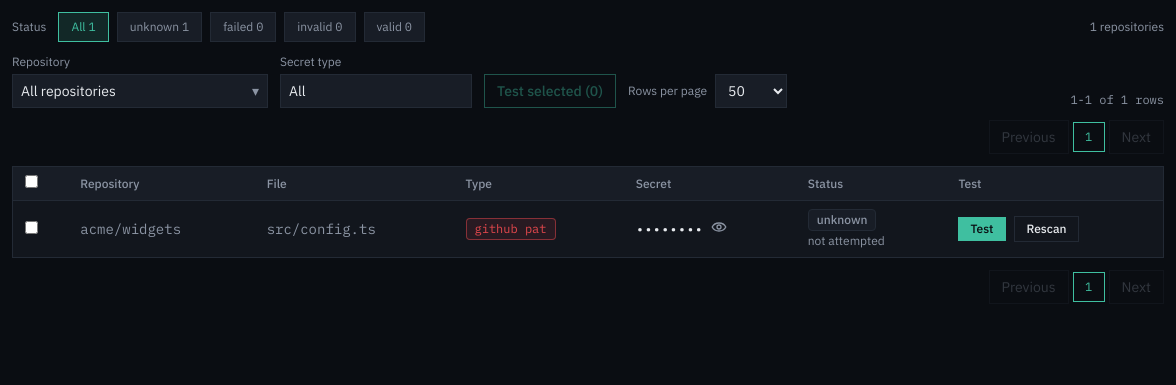
Test: TestingPanel (regular user, scoped to own approved repos) › shows each secret type's count for the selected repo
The image size is (1176, 385).
Click the button named "Repository".
click(140, 91)  # box [12, 74, 268, 108]
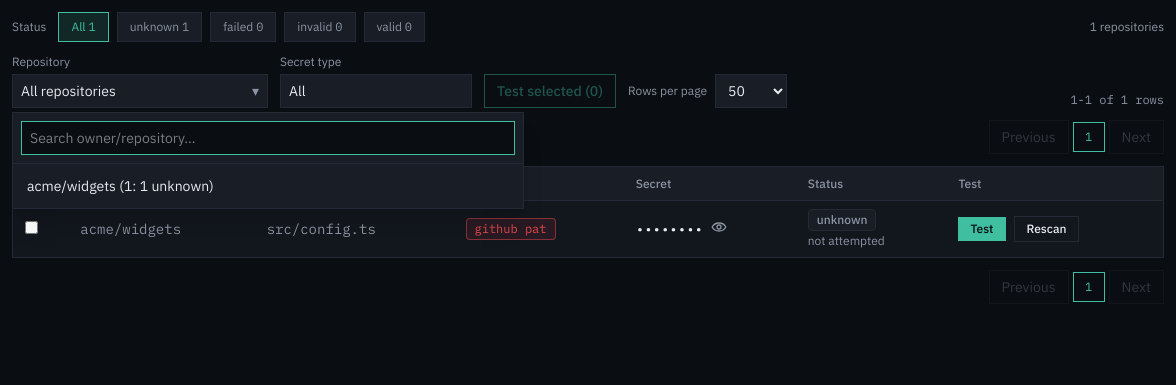
Click the option "acme/widgets (1: 1 unknown)".
click(120, 186)  # box [17, 168, 519, 204]
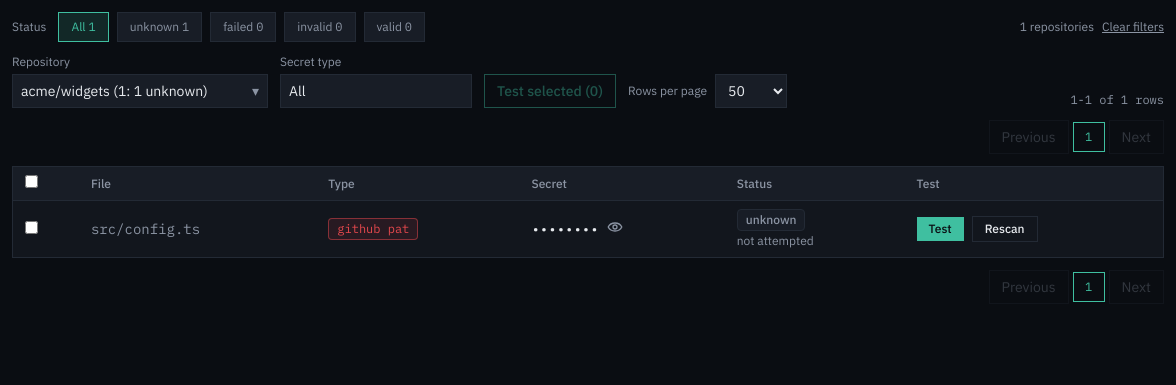
Click the button named "Secret type".
click(376, 91)  # box [280, 74, 472, 108]
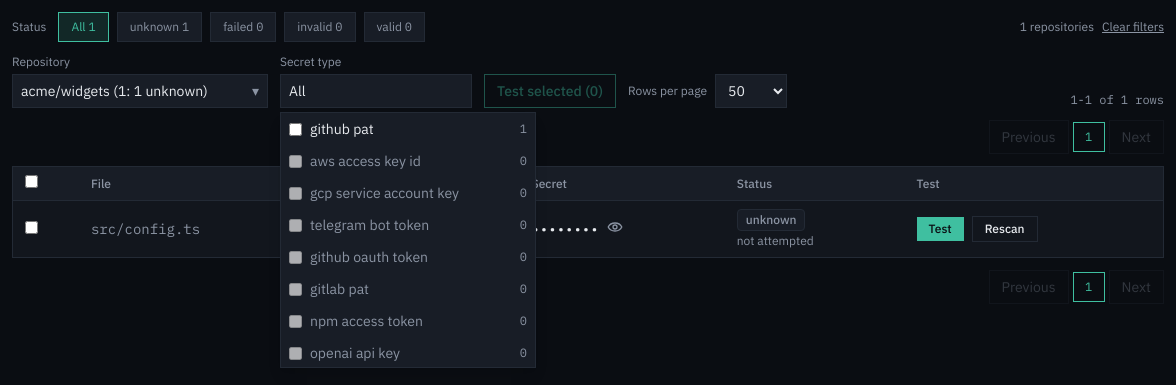
Check: the text "github pat" shows "1", box [520, 121, 527, 136]
